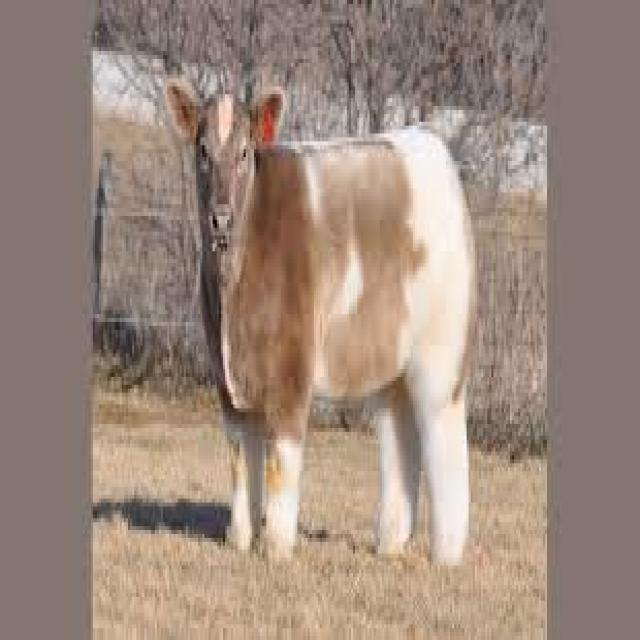cow: (181, 114, 412, 420)
